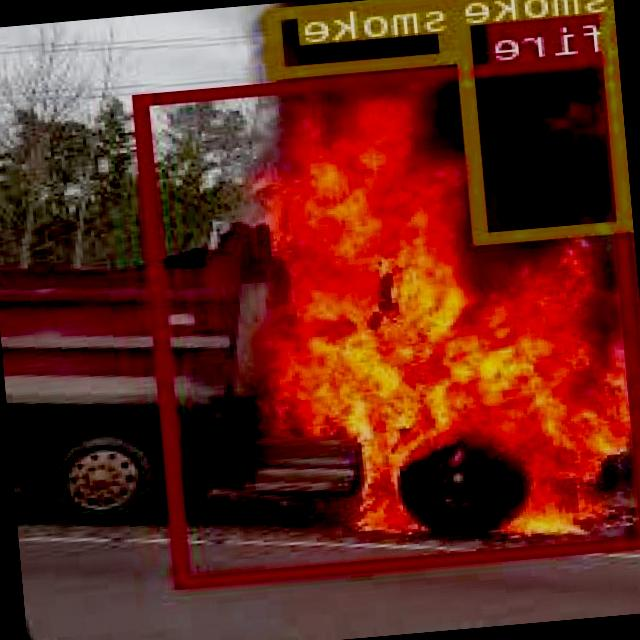fire: (137, 50, 640, 586)
smoke: (456, 0, 633, 241), (267, 0, 456, 75)
